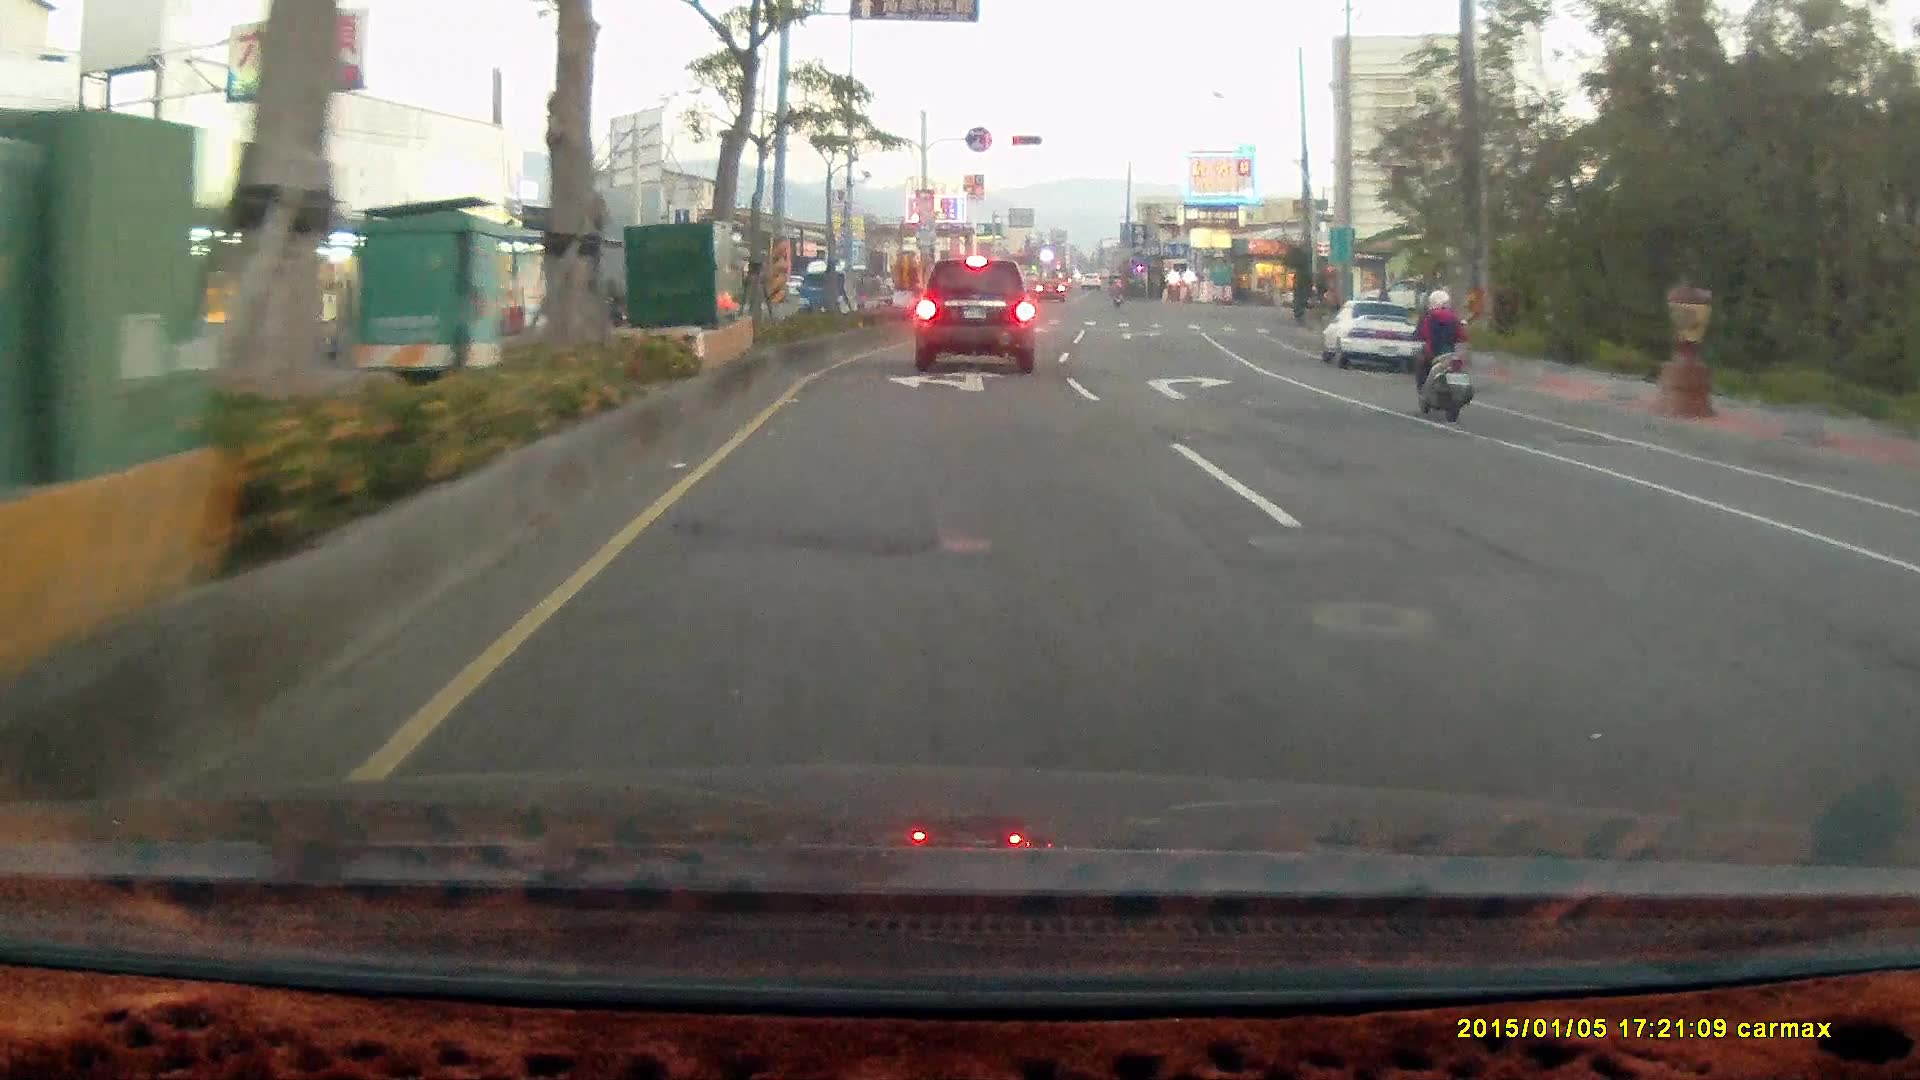rider: (1398, 277, 1476, 415)
vehicle: (913, 255, 1035, 374), (1322, 296, 1429, 372), (1896, 493, 1920, 836), (1319, 295, 1426, 370), (1883, 528, 1920, 690), (1352, 274, 1437, 311)
